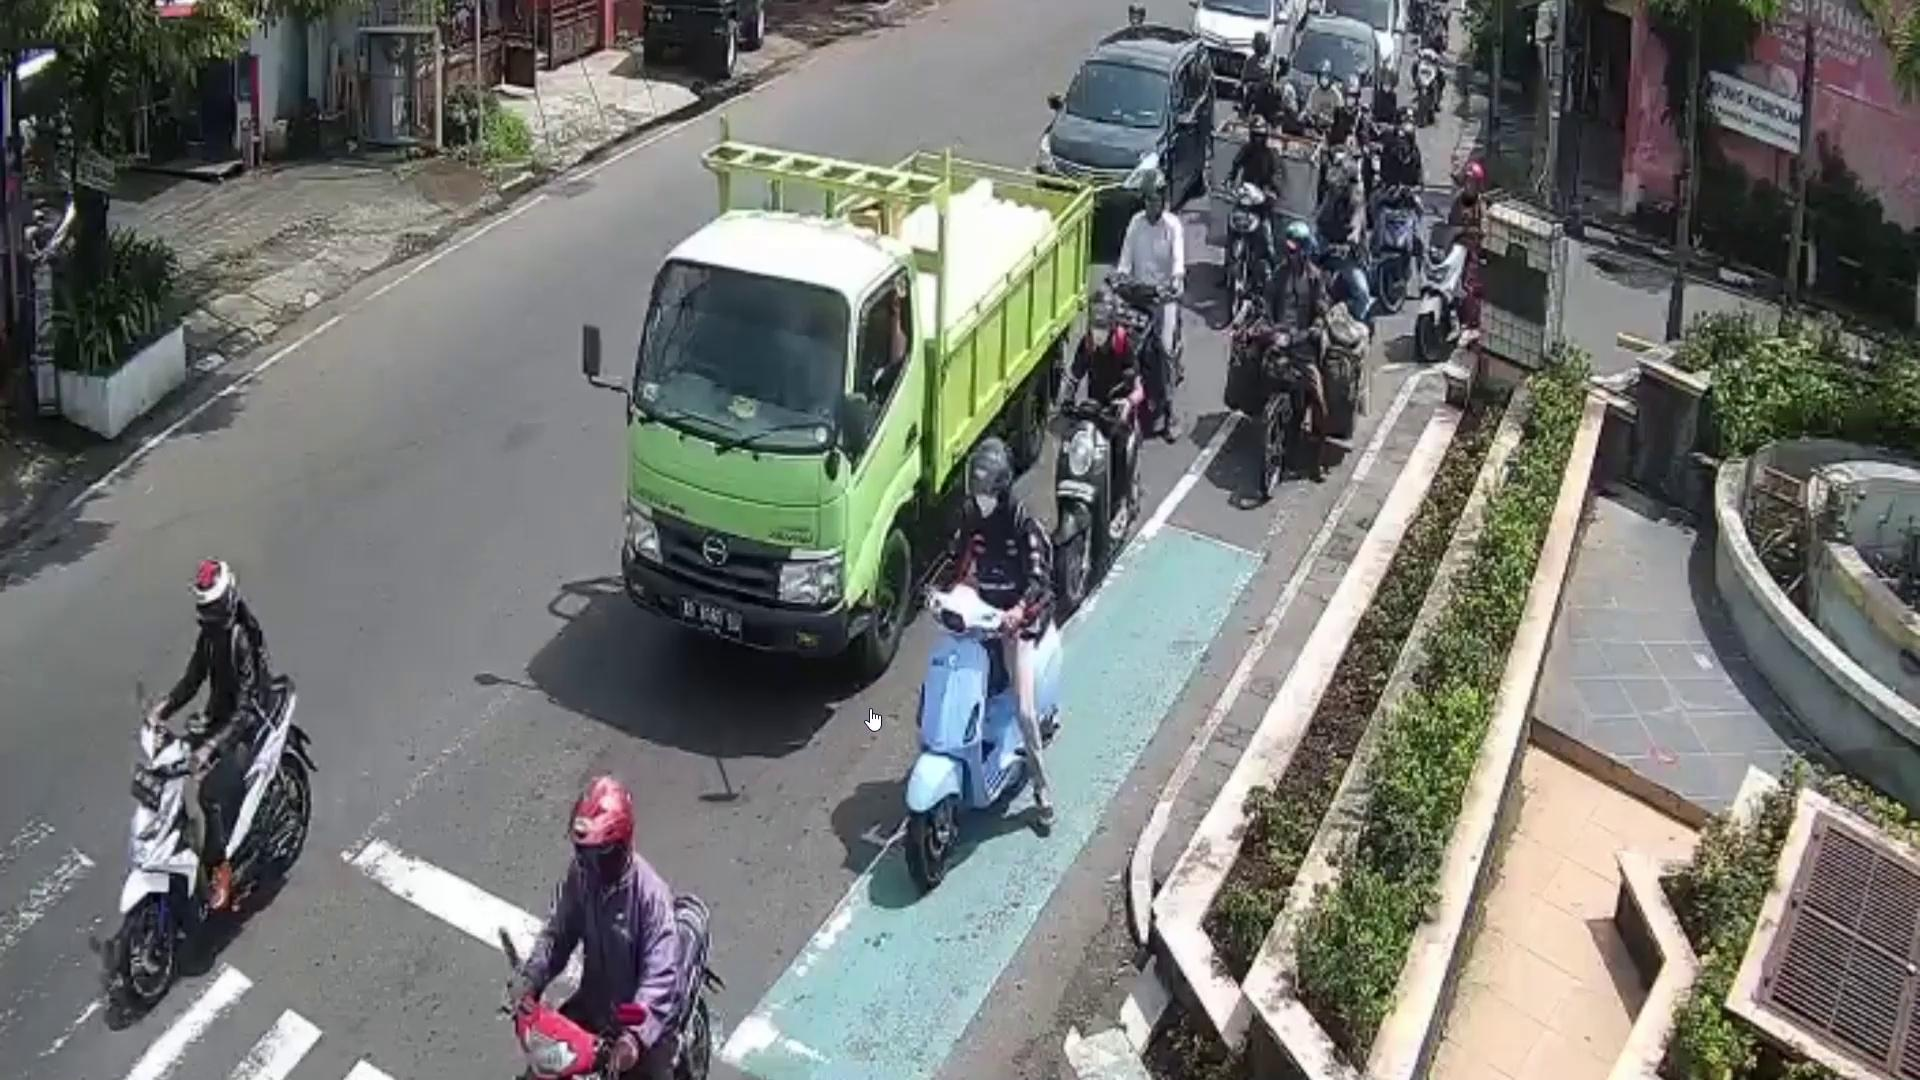car: (1035, 26, 1218, 229), (1280, 18, 1382, 165), (1196, 0, 1311, 94)
motorbike: (111, 671, 310, 1015), (906, 587, 1055, 890), (495, 893, 720, 1080), (1048, 397, 1145, 605), (1259, 327, 1312, 497), (1221, 183, 1279, 320), (1423, 220, 1477, 360), (1369, 185, 1424, 309)
truck: (612, 144, 1098, 675)
